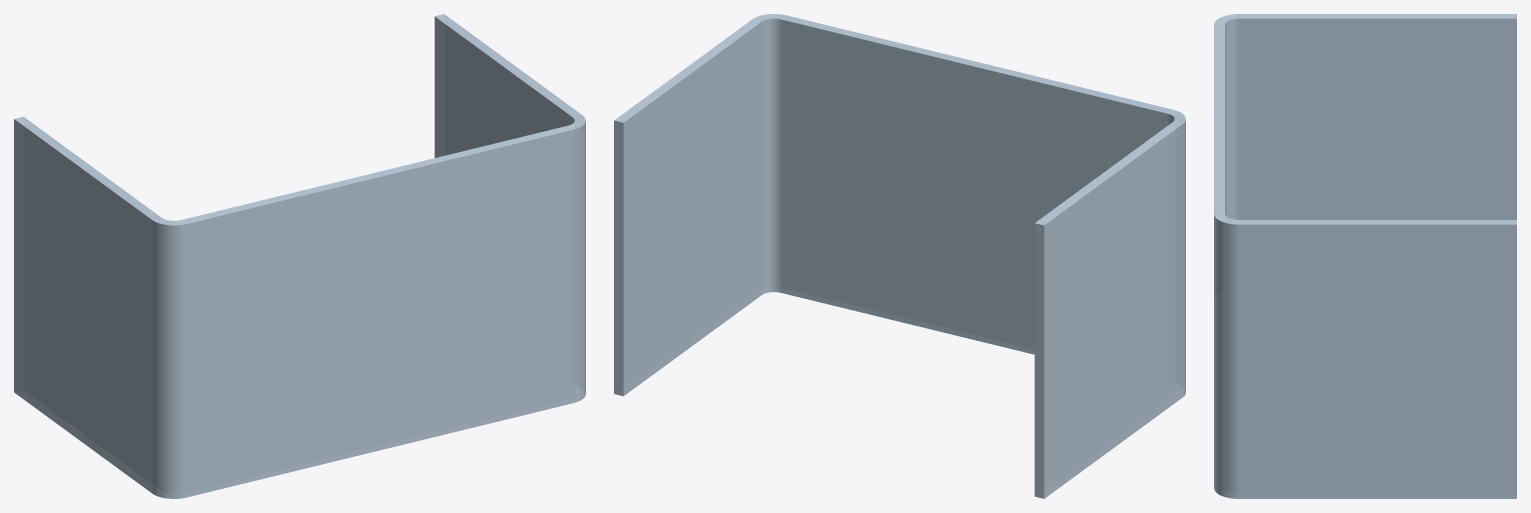
The model's file is glass.fbx.
The picture shows the model from 3 angles, left to right: view 1: azimuth 30°, elevation 25°; view 2: azimuth 150°, elevation 25°; view 3: azimuth 270°, elevation 25°; orthographic projection.
Parts seen in each view (by area): view 1: Model; view 2: Model; view 3: Model.
Part boxes in pixels (x1,y1,x2,y2): Model: (14, 14, 585, 498); Model: (614, 14, 1185, 498); Model: (1214, 14, 1516, 498).
Size of the model in its own units: 39.5 by 24 by 24.
